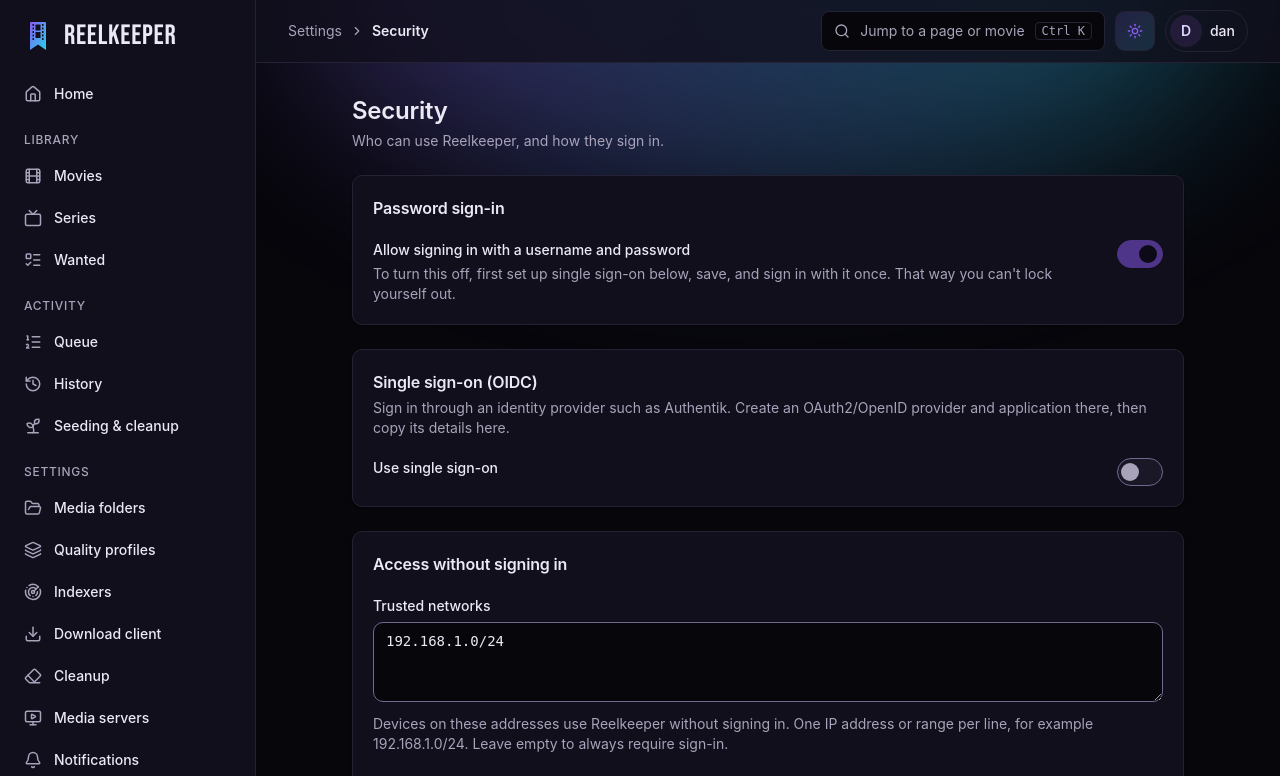
Test case: security page › shows server validation messages next to the field
The image size is (1280, 776).
Replace the text in the text box labelled "Trusted networks" with "172.16.0.0/24". click: (768, 662)
box: [373, 622, 1163, 702]
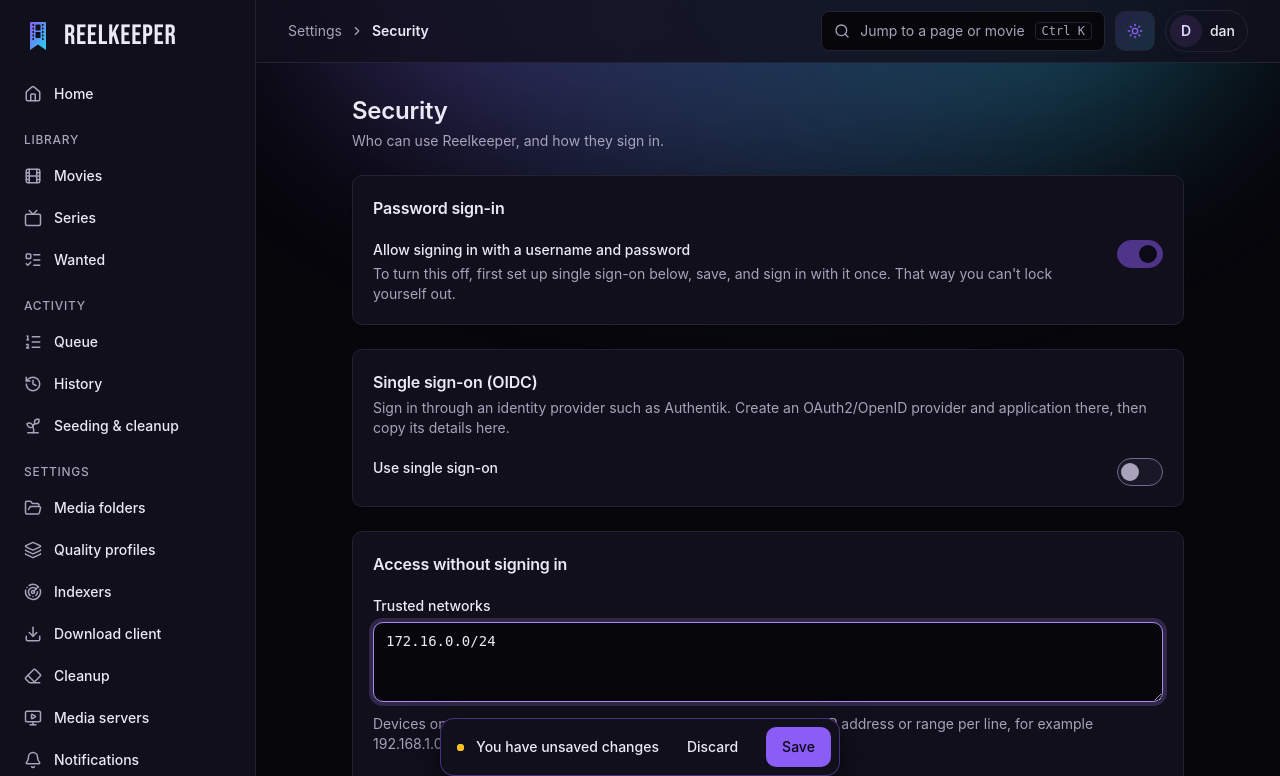
Click the button "Save". click: (798, 747)
box: [766, 727, 831, 767]
(page scrolled)
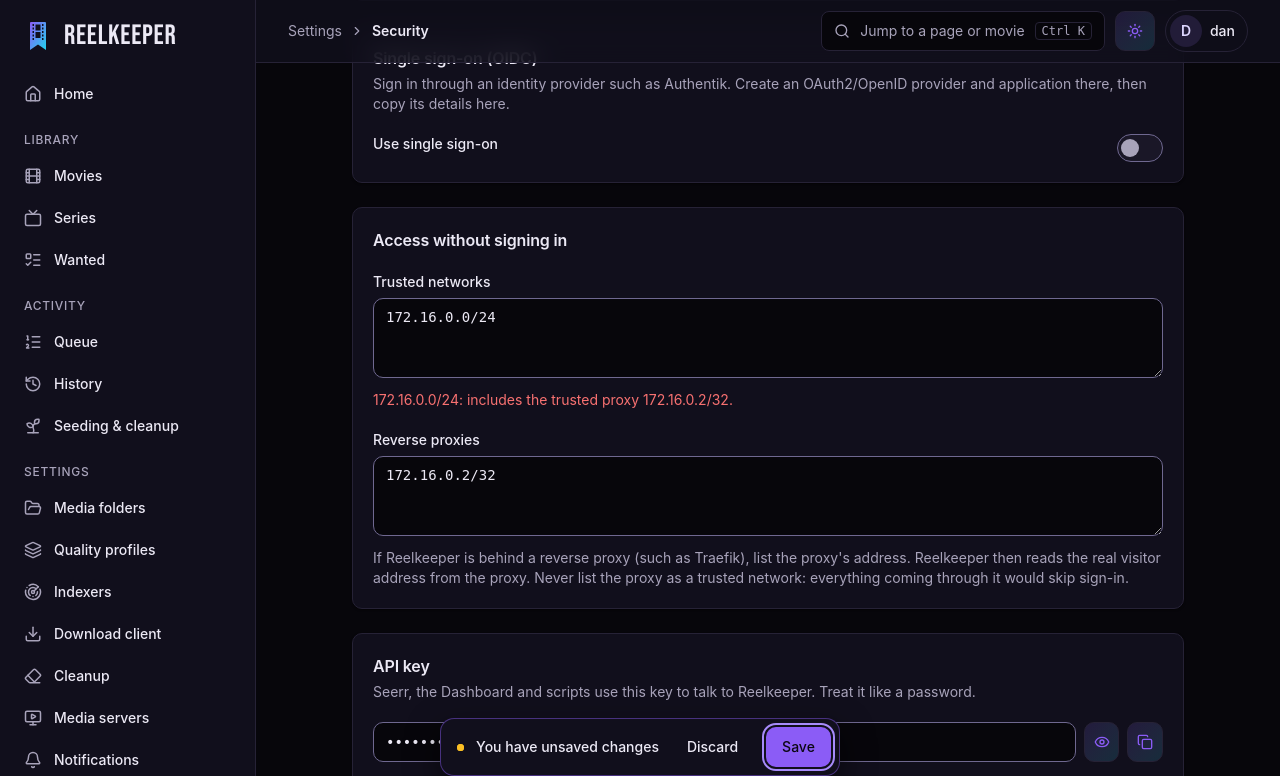
Now the text "172.16.0.0/24: includes the trusted proxy 172.16.0.2/32." is shown, box [373, 391, 733, 408]
